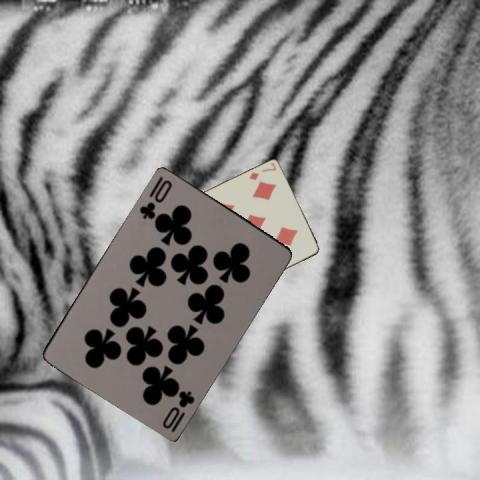10c: (159, 387, 196, 434), (136, 176, 174, 221)
7d: (246, 160, 277, 182)
